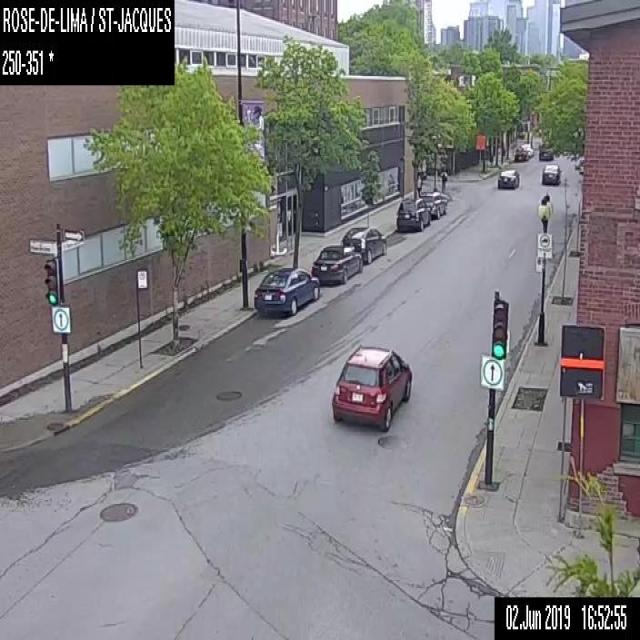construction: (474, 134, 484, 173)
pedestrian: (415, 170, 421, 194), (440, 172, 447, 192)
vehicle: (331, 342, 412, 430), (252, 268, 322, 315), (311, 241, 362, 282), (340, 224, 386, 260), (394, 196, 432, 231), (418, 190, 448, 218), (496, 167, 518, 188), (541, 162, 561, 184), (514, 144, 530, 161)
